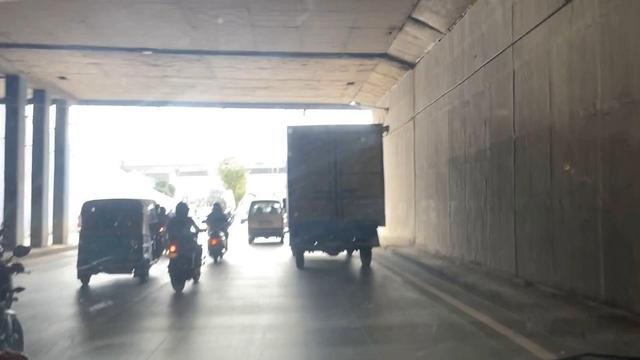HMV: (288, 126, 385, 266)
LMV: (171, 194, 197, 291), (248, 197, 285, 245), (208, 197, 233, 266)
